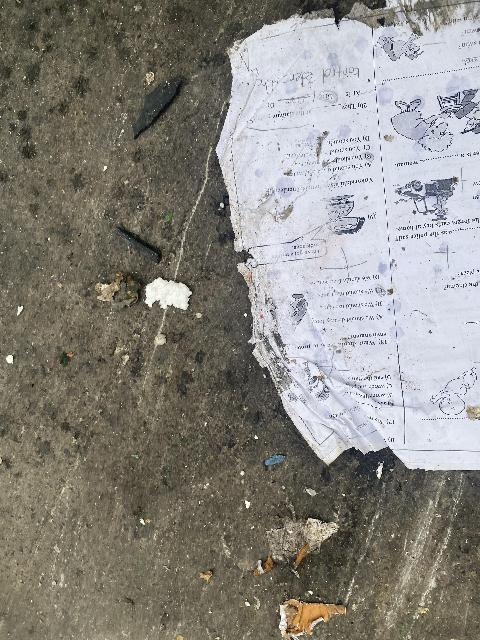Kagit: (216, 8, 480, 481), (254, 508, 338, 581), (259, 597, 360, 640), (148, 271, 198, 314)
Plastik: (130, 68, 198, 135), (95, 213, 163, 267)
